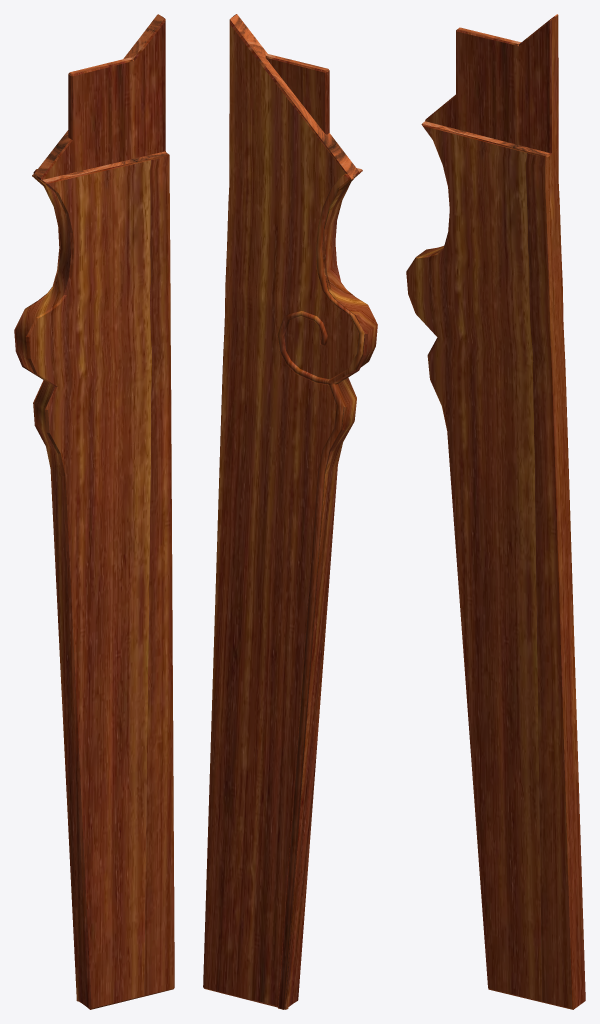
File: quanyi_J_juankou_you.FBX
3 views of the same model, side by side, from view 1: azimuth 30°, elevation 25°; view 2: azimuth 150°, elevation 25°; view 3: azimuth 330°, elevation 25° (orthographic). The views are drawn at different scales.
Parts seen in each view (by area): view 1: quanyi_J_juankou_you; view 2: quanyi_J_juankou_you; view 3: quanyi_J_juankou_you.
Boxes of the visible parts, box(x1,y1,x2,y2) form: quanyi_J_juankou_you: box(14, 14, 174, 1009); quanyi_J_juankou_you: box(203, 14, 377, 1009); quanyi_J_juankou_you: box(406, 14, 585, 1009).
Size of the model in its own units: 6.74 by 39.82 by 1.84.
Materials: 2 (2 with a texture image).
